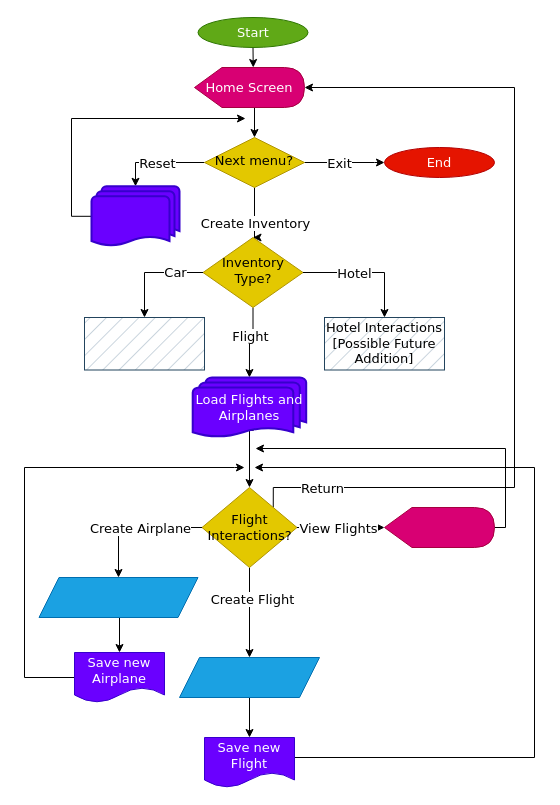
The diagram is 560 pixels wide and 805 high, and some of its shapes have lost their labels. The shapes that lost their labels are listed below. From the top down, each one's centre as x and y in pixels, then its label:
At (x=135, y=216): "Clear All Documents".
At (x=144, y=343): "Car Interactions [Possible Future Addition]".
At (x=439, y=527): "Display Flights".
At (x=118, y=597): "Input Airplane Data".
At (x=249, y=677): "Input Flight Data".
